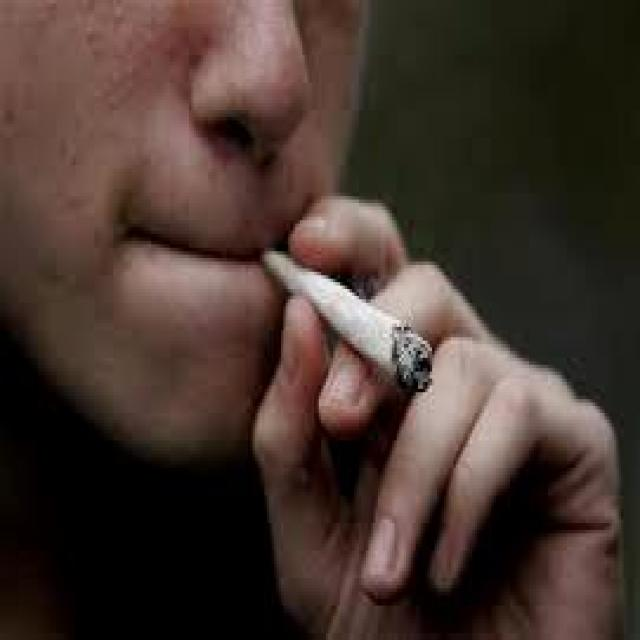smoke: (260, 241, 430, 396)
